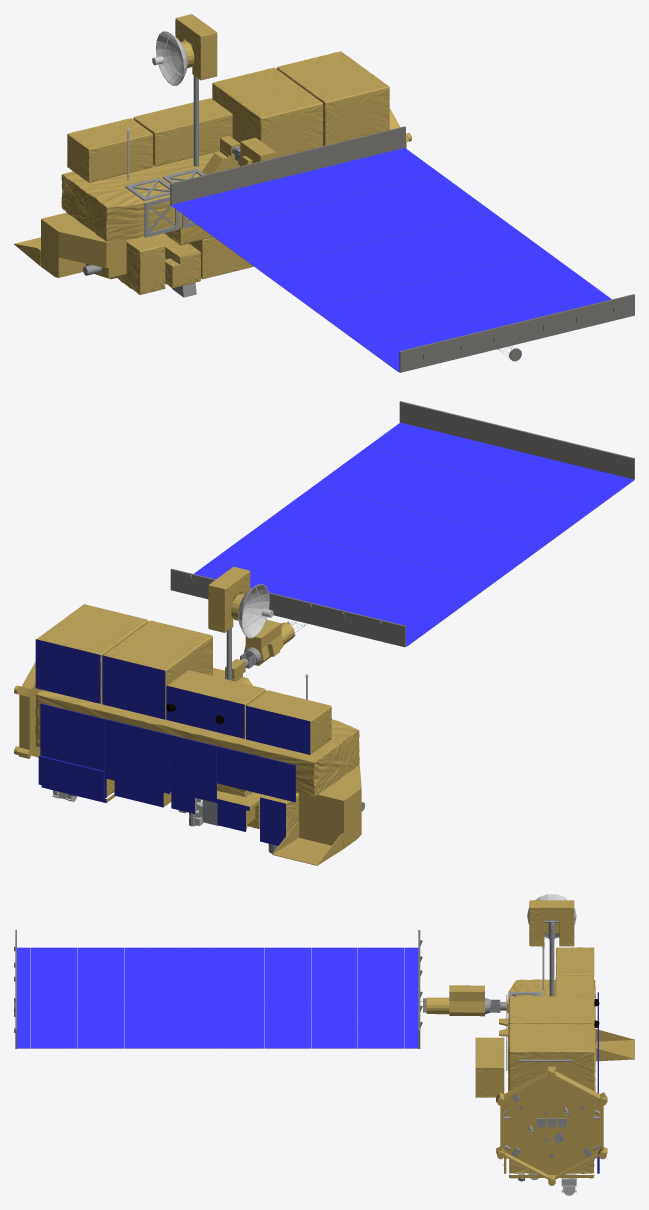
Rendered from terra.glb.
3 views of the same model, one above another, from view 1: azimuth 30°, elevation 25°; view 2: azimuth 150°, elevation 25°; view 3: azimuth 270°, elevation 25° (orthographic). The views are drawn at different scales.
Parts seen in each view (by area): view 1: Terra_vFINAL [Layer1], Terra_vFINAL [Layer17]; view 2: Terra_vFINAL [Layer1], Terra_vFINAL [Layer17]; view 3: Terra_vFINAL [Layer17], Terra_vFINAL [Layer1].
Part boxes in pixels (<box>): Terra_vFINAL [Layer1]: <box>14,14,634,372</box>; Terra_vFINAL [Layer17]: <box>171,148,611,371</box>; Terra_vFINAL [Layer1]: <box>14,401,634,865</box>; Terra_vFINAL [Layer17]: <box>194,422,634,646</box>; Terra_vFINAL [Layer17]: <box>17,947,418,1048</box>; Terra_vFINAL [Layer1]: <box>14,894,634,1195</box>.
Size of the model in its own units: 13622 by 10276 by 26054.
Materials: 2 (2 with a texture image).
